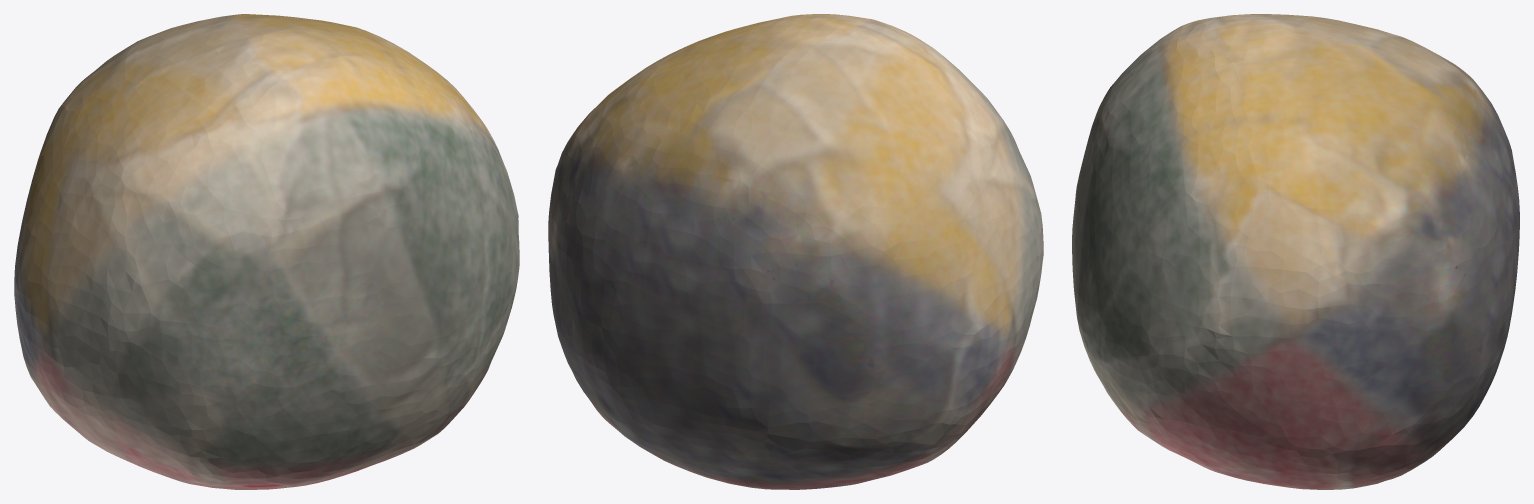
File: ball.obj
3 renders of one model, left to right at view 1: azimuth 30°, elevation 25°; view 2: azimuth 150°, elevation 25°; view 3: azimuth 270°, elevation 25°, orthographic. The views are drawn at different scales.
Visible parts, largest first — view 1: Sharp fusion 1; view 2: Sharp fusion 1; view 3: Sharp fusion 1.
Boxes of the visible parts, x1,y1,x2,y2 form: Sharp fusion 1: (14, 14, 519, 489); Sharp fusion 1: (548, 14, 1043, 489); Sharp fusion 1: (1072, 14, 1519, 489).
Bounding box in the file's own units: 56.97 × 53.21 × 51.17.
Materials: 1 (1 with a texture image).
